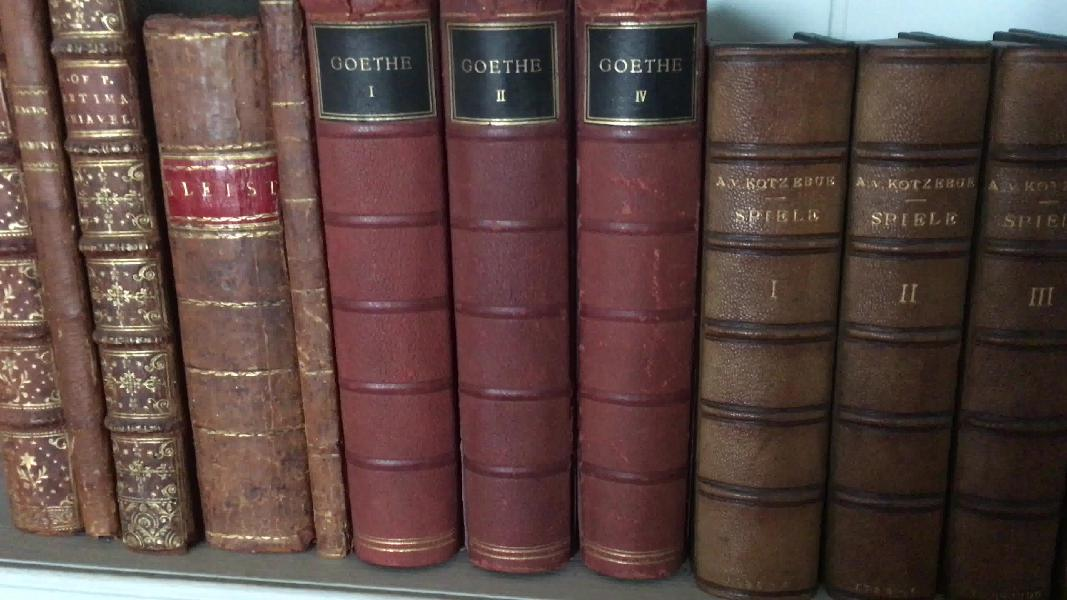Aa6-10: (258, 6, 359, 563)
Aa6-11_13: (299, 1, 712, 582)
Aa6-14_17: (704, 38, 1063, 599)
Aa6-7: (5, 14, 123, 547)
Aa6-8: (36, 6, 208, 558)
Aa6-9: (141, 13, 312, 563)
